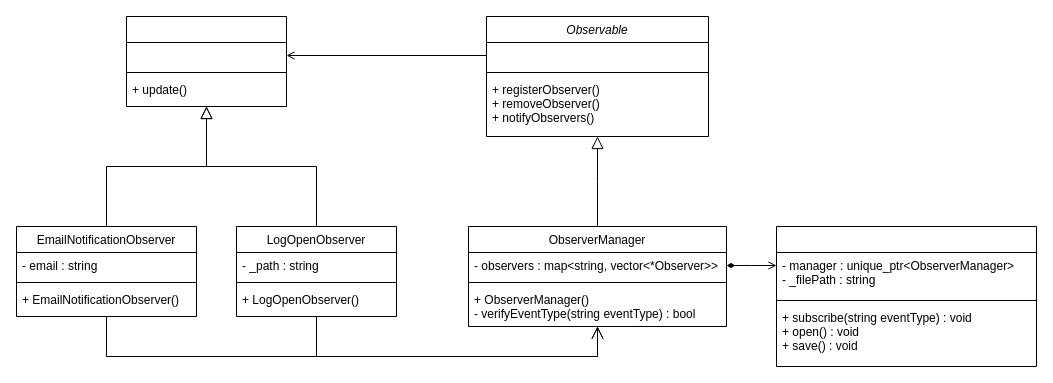
This 1053x383 diagram has some shape labels left out. Here are the shapes that lost their labels. From the top down, the box of each, then its label:
(126, 16, 286, 106): Observer
(776, 226, 1036, 366): Editor
